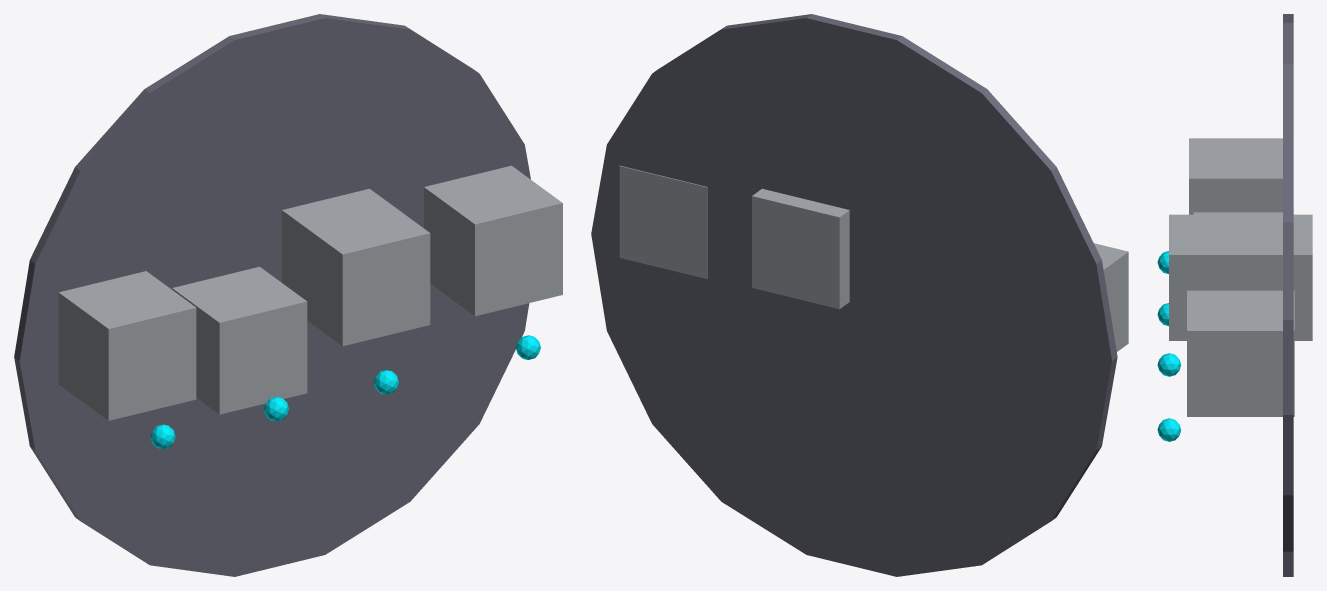
The model's file is 02_local_prop_cluster.glb.
3 views of the same model, side by side, from view 1: azimuth 30°, elevation 25°; view 2: azimuth 150°, elevation 25°; view 3: azimuth 270°, elevation 25° (orthographic). The views are drawn at different scales.
Visible parts, largest first — view 1: scatter_base, tech_crate_2, tech_crate_0, tech_crate_3, tech_crate_1; view 2: scatter_base, tech_crate_2, tech_crate_3, tech_crate_0; view 3: tech_crate_3, tech_crate_2, tech_crate_0, scatter_base, status_light_3, status_light_2, tech_crate_1.
Boxes of the visible parts, left/top/right/bottom form: scatter_base: left=14, top=14, right=530, bottom=576; tech_crate_2: left=282, top=188, right=430, bottom=346; tech_crate_0: left=58, top=271, right=196, bottom=420; tech_crate_3: left=424, top=165, right=562, bottom=316; tech_crate_1: left=172, top=266, right=307, bottom=414; scatter_base: left=591, top=14, right=1117, bottom=576; tech_crate_2: left=752, top=188, right=849, bottom=309; tech_crate_3: left=619, top=165, right=707, bottom=278; tech_crate_0: left=1094, top=243, right=1128, bottom=351; tech_crate_3: left=1187, top=290, right=1294, bottom=416; tech_crate_2: left=1169, top=214, right=1312, bottom=340; tech_crate_0: left=1189, top=138, right=1282, bottom=214; scatter_base: left=1283, top=14, right=1293, bottom=576; status_light_3: left=1157, top=418, right=1180, bottom=441; status_light_2: left=1157, top=353, right=1180, bottom=376; tech_crate_1: left=1193, top=212, right=1282, bottom=214.
Bounding box in the file's own units: 1.9 × 1.87 × 0.5211.
